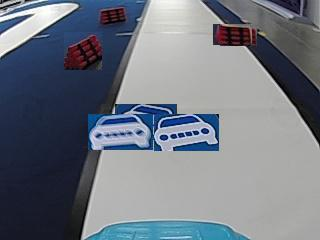bomb: (99, 5, 126, 23)
